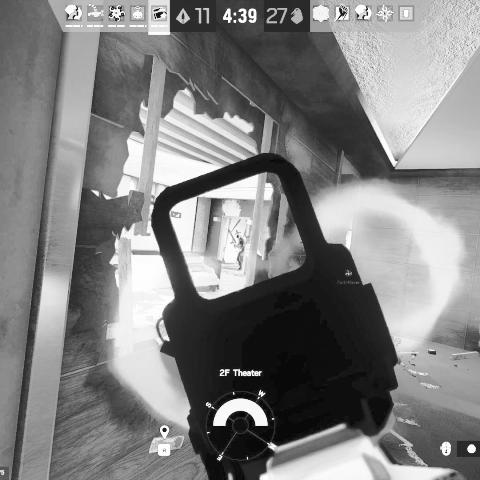Character: (235, 233, 246, 271)
Friend_label: (336, 267, 362, 287)
Head: (236, 233, 242, 240)
